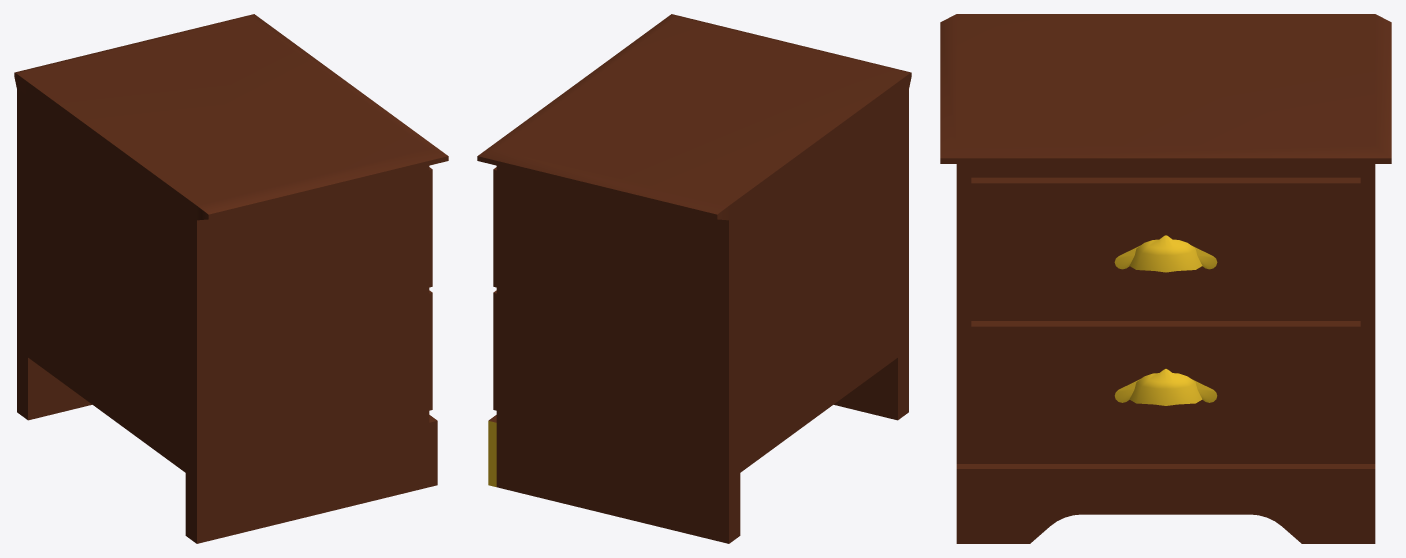
The model's file is model_Historical_Nightstand.fbx.
3 renders of one model, left to right at view 1: azimuth 30°, elevation 25°; view 2: azimuth 150°, elevation 25°; view 3: azimuth 270°, elevation 25°, orthographic. The views are drawn at different scales.
Visible parts, largest first — view 1: eb_nightstand_01; view 2: eb_nightstand_01; view 3: eb_nightstand_01.
Part boxes in pixels (x1=…): eb_nightstand_01: x1=14, y1=14, x2=448, y2=543; eb_nightstand_01: x1=477, y1=14, x2=911, y2=543; eb_nightstand_01: x1=940, y1=14, x2=1391, y2=543.
Bounding box in the file's own units: 6586 × 8249 × 8582.
